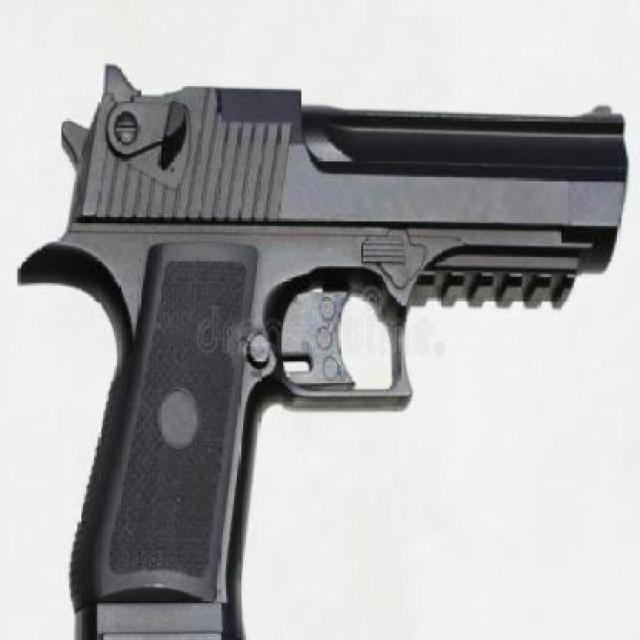gun: (3, 51, 640, 640)
